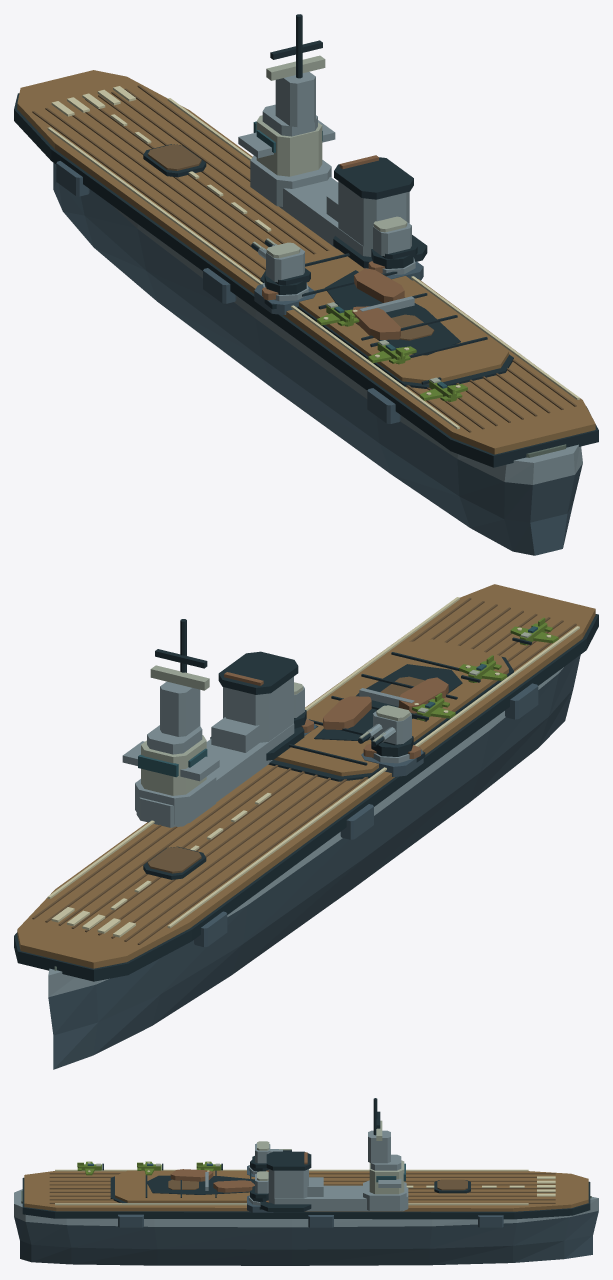
The model's file is historic-lexington.glb.
The picture shows the model from 3 angles, top to bottom: view 1: azimuth 30°, elevation 25°; view 2: azimuth 150°, elevation 25°; view 3: azimuth 270°, elevation 25°; orthographic projection. The views are drawn at different scales.
Parts seen in each view (by area): view 1: historic-lexington-historic-lexington-geometry, historic-lexington-part_flight-deck.011-geometry, historic-lexington-part_bridge.069-geometry, historic-lexington-historic_funnel_0.072-geometry, historic-lexington-ruin_flight-deck.010-geometry, historic-lexington-turret_aa_aa-port.073-geometry, historic-lexington-turret_aa_aa-starboard.069-geometry, historic-lexington-aircraft_lift_0.011-geometry, historic-lexington-part_aa-port.073-geometry, historic-lexington-parked_aircraft_0.011-geometry, historic-lexington-parked_aircraft_1.011-geometry; view 2: historic-lexington-historic-lexington-geometry, historic-lexington-historic_funnel_0.072-geometry, historic-lexington-part_bridge.069-geometry, historic-lexington-part_flight-deck.011-geometry, historic-lexington-ruin_flight-deck.010-geometry, historic-lexington-turret_aa_aa-port.073-geometry, historic-lexington-aircraft_lift_0.011-geometry, historic-lexington-part_aa-port.073-geometry, historic-lexington-parked_aircraft_1.011-geometry, historic-lexington-parked_aircraft_0.011-geometry, historic-lexington-parked_aircraft_2.011-geometry; view 3: historic-lexington-historic-lexington-geometry, historic-lexington-historic_funnel_0.072-geometry, historic-lexington-part_bridge.069-geometry, historic-lexington-part_flight-deck.011-geometry, historic-lexington-ruin_flight-deck.010-geometry, historic-lexington-turret_aa_aa-port.073-geometry, historic-lexington-aircraft_lift_0.011-geometry, historic-lexington-turret_aa_aa-starboard.069-geometry, historic-lexington-aircraft_lift_1.011-geometry, historic-lexington-parked_aircraft_0.011-geometry, historic-lexington-parked_aircraft_1.011-geometry.
Part boxes in pixels (bbox=[...]): historic-lexington-historic-lexington-geometry: bbox=[14, 70, 598, 555]; historic-lexington-part_flight-deck.011-geometry: bbox=[260, 249, 513, 389]; historic-lexington-part_bridge.069-geometry: bbox=[238, 14, 335, 206]; historic-lexington-historic_funnel_0.072-geometry: bbox=[279, 155, 427, 268]; historic-lexington-ruin_flight-deck.010-geometry: bbox=[325, 268, 460, 355]; historic-lexington-turret_aa_aa-port.073-geometry: bbox=[251, 238, 310, 294]; historic-lexington-turret_aa_aa-starboard.069-geometry: bbox=[371, 216, 417, 268]; historic-lexington-aircraft_lift_0.011-geometry: bbox=[143, 144, 206, 177]; historic-lexington-part_aa-port.073-geometry: bbox=[254, 282, 316, 314]; historic-lexington-parked_aircraft_0.011-geometry: bbox=[419, 377, 467, 401]; historic-lexington-parked_aircraft_1.011-geometry: bbox=[368, 339, 416, 364]; historic-lexington-historic-lexington-geometry: bbox=[14, 584, 598, 1069]; historic-lexington-historic_funnel_0.072-geometry: bbox=[136, 651, 304, 827]; historic-lexington-part_bridge.069-geometry: bbox=[122, 619, 219, 824]; historic-lexington-part_flight-deck.011-geometry: bbox=[268, 639, 513, 781]; historic-lexington-ruin_flight-deck.010-geometry: bbox=[314, 664, 462, 741]; historic-lexington-turret_aa_aa-port.073-geometry: bbox=[358, 705, 413, 756]; historic-lexington-aircraft_lift_0.011-geometry: bbox=[143, 846, 206, 879]; historic-lexington-part_aa-port.073-geometry: bbox=[361, 745, 423, 776]; historic-lexington-parked_aircraft_1.011-geometry: bbox=[459, 655, 507, 682]; historic-lexington-parked_aircraft_0.011-geometry: bbox=[510, 617, 558, 645]; historic-lexington-parked_aircraft_2.011-geometry: bbox=[411, 693, 455, 720]; historic-lexington-historic-lexington-geometry: bbox=[14, 1169, 598, 1265]; historic-lexington-historic_funnel_0.072-geometry: bbox=[260, 1151, 408, 1211]; historic-lexington-part_bridge.069-geometry: bbox=[363, 1098, 406, 1210]; historic-lexington-part_flight-deck.011-geometry: bbox=[110, 1170, 254, 1203]; historic-lexington-ruin_flight-deck.010-geometry: bbox=[147, 1169, 254, 1194]; historic-lexington-turret_aa_aa-port.073-geometry: bbox=[250, 1141, 291, 1171]; historic-lexington-aircraft_lift_0.011-geometry: bbox=[434, 1179, 470, 1193]; historic-lexington-turret_aa_aa-starboard.069-geometry: bbox=[250, 1171, 268, 1202]; historic-lexington-aircraft_lift_1.011-geometry: bbox=[168, 1179, 198, 1189]; historic-lexington-parked_aircraft_0.011-geometry: bbox=[77, 1161, 103, 1175]; historic-lexington-parked_aircraft_1.011-geometry: bbox=[137, 1161, 163, 1175].
Bounding box in the file's own units: 1.17 × 1.92 × 5.89.
